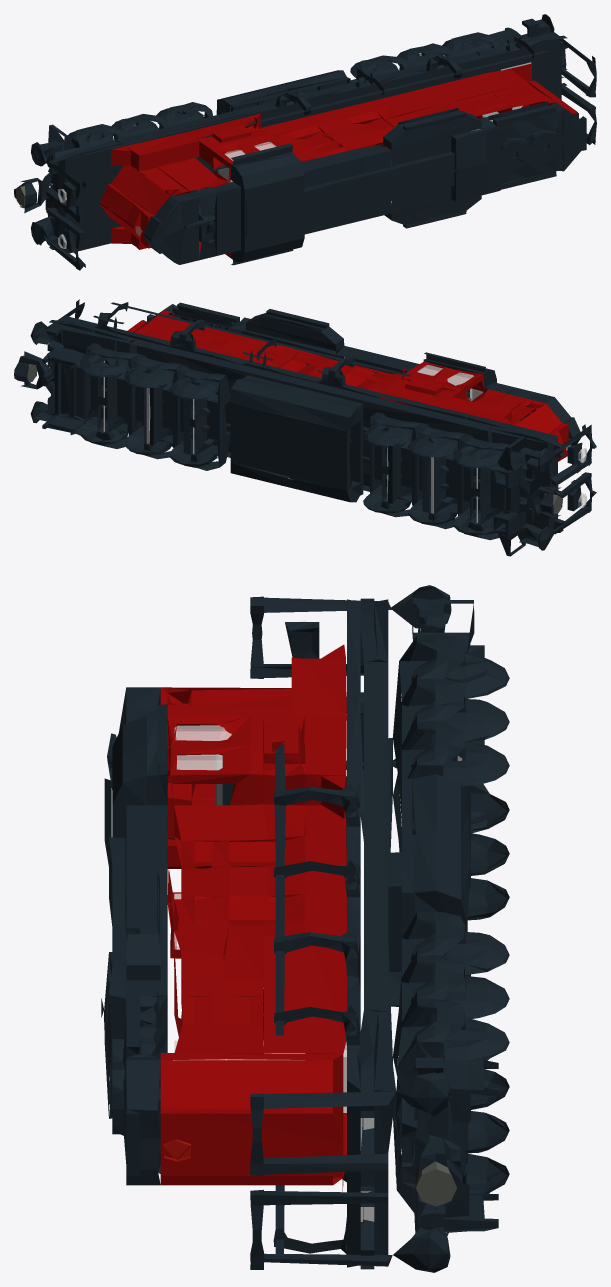
Rendered from diesel-electric-american-locomotive-2.glb.
3 views of the same model, one above another, from view 1: azimuth 30°, elevation 25°; view 2: azimuth 150°, elevation 25°; view 3: azimuth 270°, elevation 25° (orthographic). The views are drawn at different scales.
Size of the model in its own units: 288 by 63.18 by 94.8.
